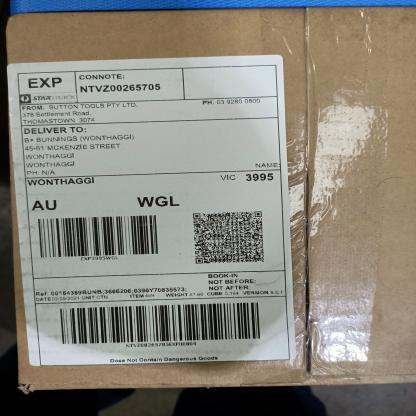label: (11, 59, 296, 374)
package: (6, 16, 414, 397)
